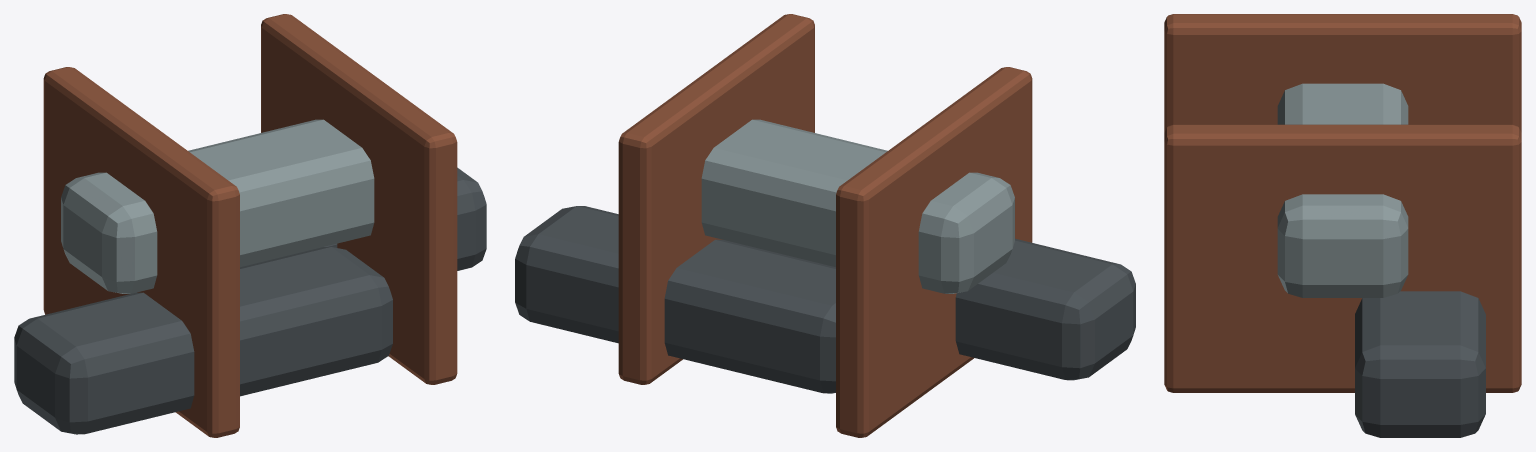
The model's file is economy_cargo_iron_v01.glb.
3 views of the same model, side by side, from view 1: azimuth 30°, elevation 25°; view 2: azimuth 150°, elevation 25°; view 3: azimuth 270°, elevation 25° (orthographic). The views are drawn at different scales.
Parts seen in each view (by area): view 1: GEO_IronIngot_0, GEO_IronBinding, GEO_IronBinding.001, GEO_IronIngot_2, GEO_IronIngot_1; view 2: GEO_IronBinding, GEO_IronIngot_1, GEO_IronBinding.001, GEO_IronIngot_2, GEO_IronIngot_0; view 3: GEO_IronBinding.001, GEO_IronBinding, GEO_IronIngot_1, GEO_IronIngot_2.
Boxes of the visible parts, bbox=[...] form: GEO_IronIngot_0: bbox=[14, 247, 392, 434]; GEO_IronBinding: bbox=[43, 67, 239, 437]; GEO_IronBinding.001: bbox=[261, 14, 457, 384]; GEO_IronIngot_2: bbox=[61, 119, 374, 293]; GEO_IronIngot_1: bbox=[324, 167, 486, 270]; GEO_IronBinding: bbox=[836, 67, 1032, 437]; GEO_IronIngot_1: bbox=[515, 206, 835, 393]; GEO_IronBinding.001: bbox=[618, 14, 814, 384]; GEO_IronIngot_2: bbox=[701, 119, 1014, 293]; GEO_IronIngot_0: bbox=[955, 238, 1135, 380]; GEO_IronBinding.001: bbox=[1164, 124, 1521, 392]; GEO_IronBinding: bbox=[1164, 14, 1521, 132]; GEO_IronIngot_1: bbox=[1355, 291, 1485, 437]; GEO_IronIngot_2: bbox=[1277, 83, 1408, 297].
Bounding box in the file's own units: 1.02 × 0.48 × 0.6.
